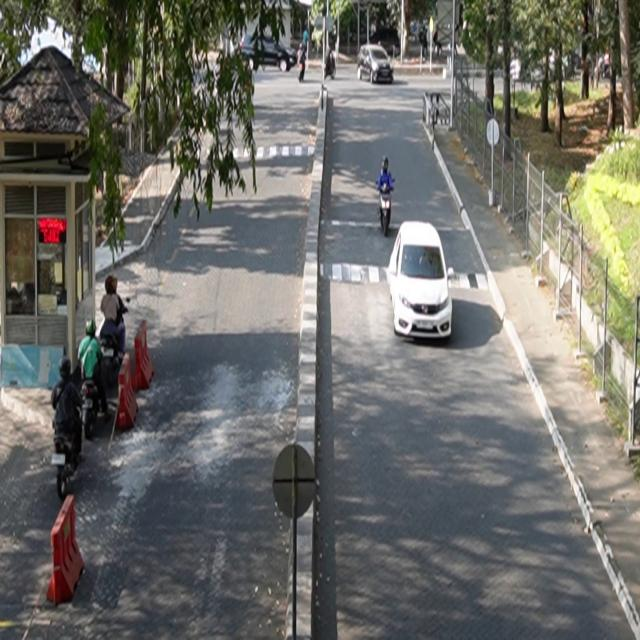car: (389, 221, 453, 340), (238, 32, 298, 73), (358, 44, 395, 85)
